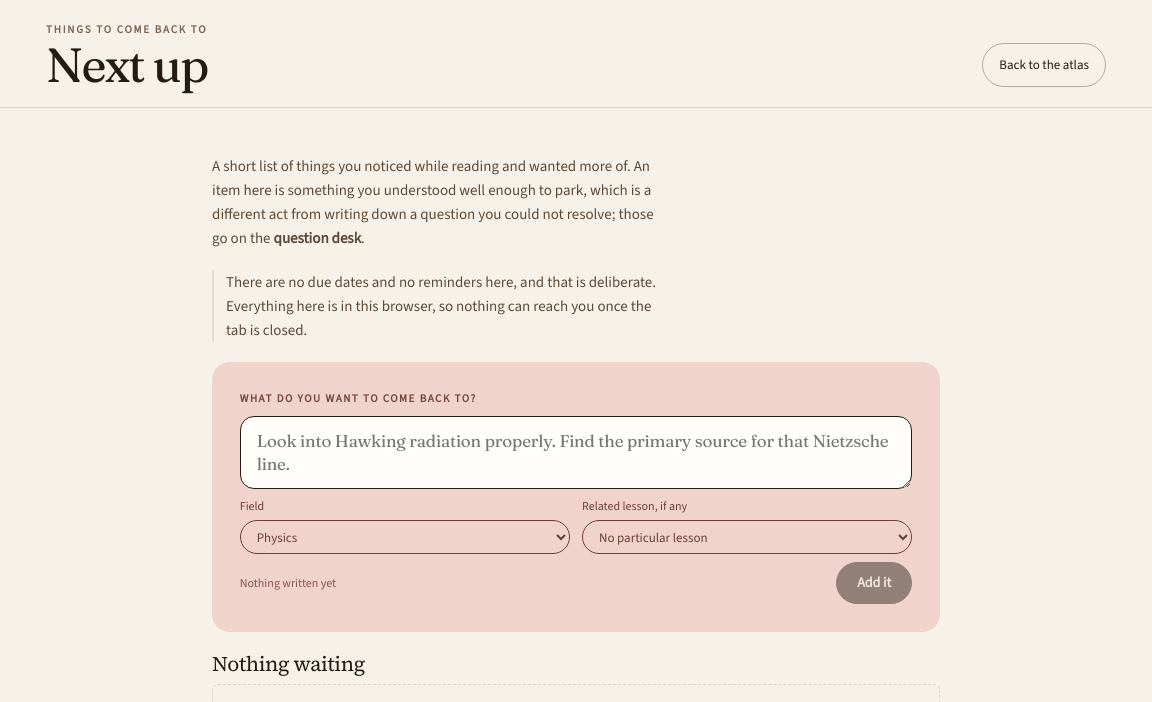
Scenario: says out loud when the browser refuses the write
Replace the text in the text box labelled "What do you want to come back to?" with "This one will not be stored anywhere": (576, 452) [240,416,912,489]
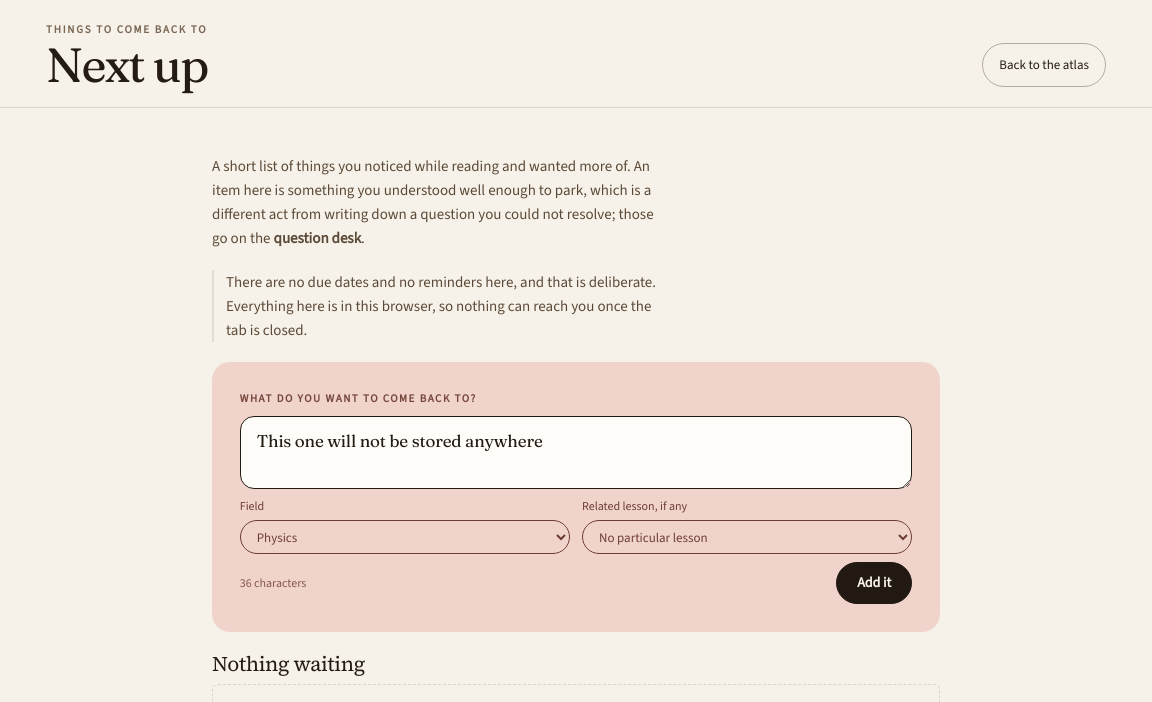
Click the button "Add it": (874, 583) [836,562,912,604]
(page scrolled)
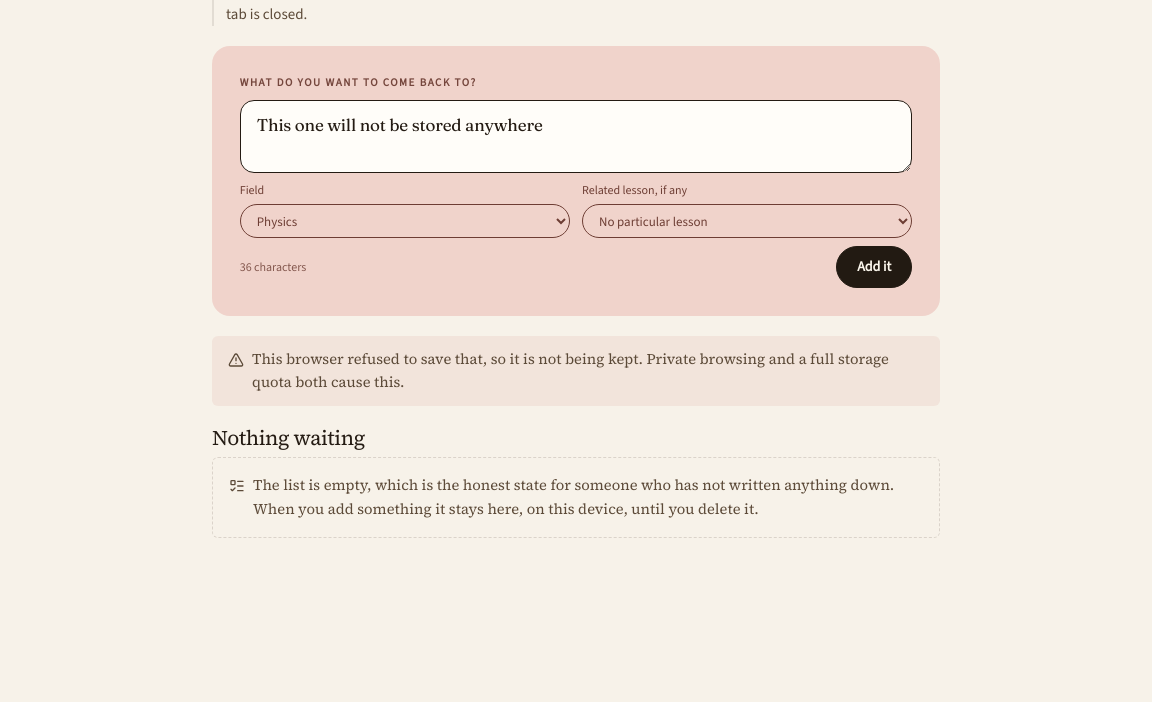
expect the message shows "refused to save": met, box [252,349,889,392]
